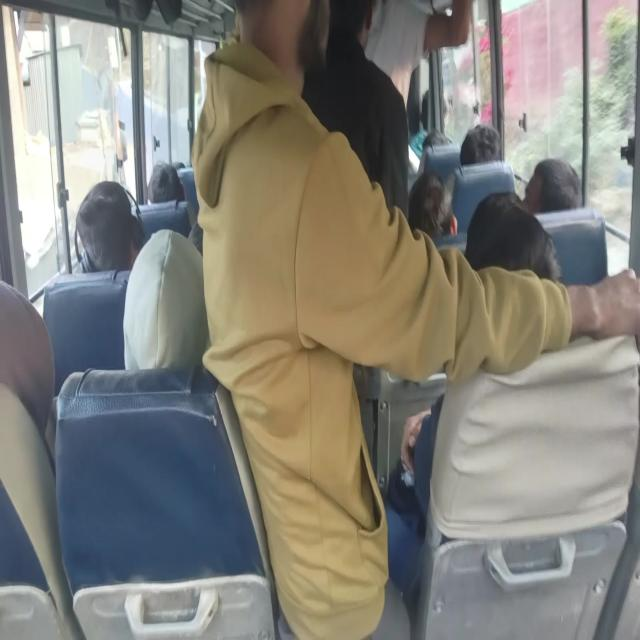person: (233, 0, 318, 169), (467, 193, 548, 315), (138, 238, 208, 379), (358, 0, 429, 95), (0, 276, 37, 428), (74, 190, 135, 274), (407, 182, 463, 252), (326, 0, 370, 85), (527, 151, 582, 215), (148, 167, 186, 219), (468, 118, 500, 170), (419, 128, 454, 166), (418, 84, 445, 119)
